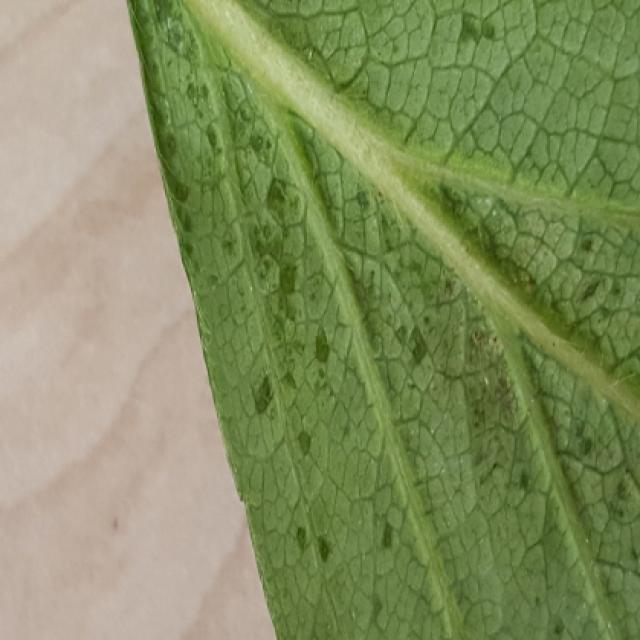Angular Leafspot: (126, 0, 638, 638)
